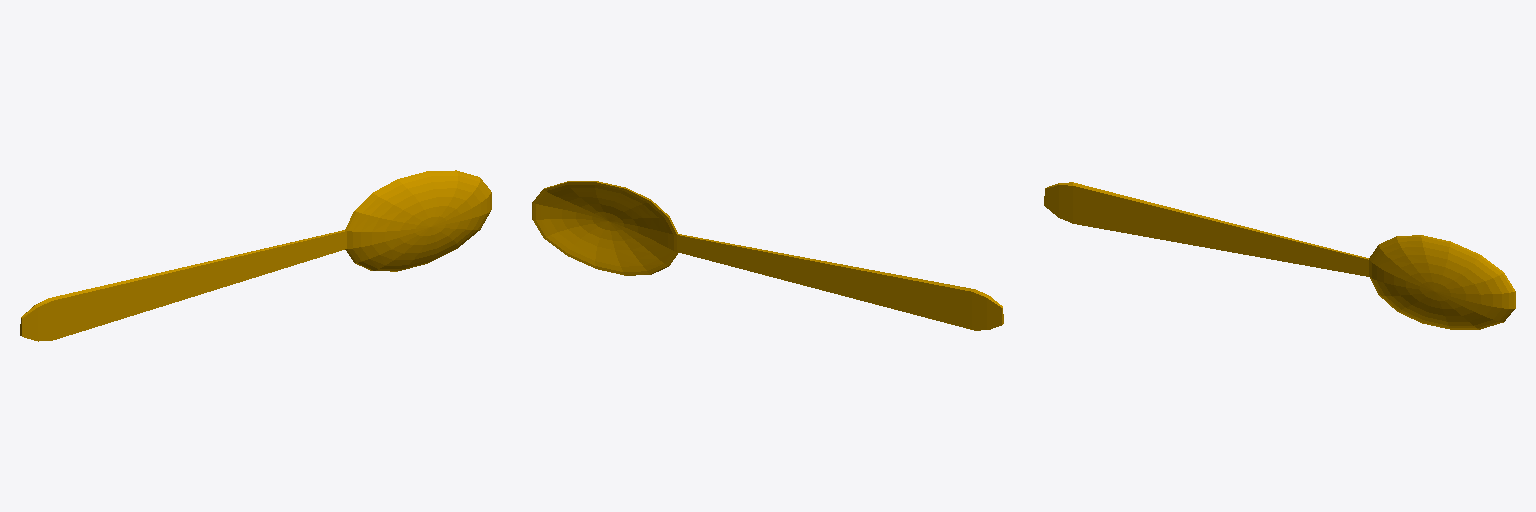
URDF robot description (fork):
<?xml version="1.0"?>
<robot name="fork">
  <link name="base_link">
    <visual>
      <origin xyz="0 0 0" rpy="0 3.14 0"/>
      <geometry>
        <mesh filename="spoon.obj" scale = "0.1 0.1 0.1"/>
      </geometry>
      <material name="brown">
        <color rgba="0.8 0.6 0 1.0" />
      </material>
    </visual>
    <collision>
      <origin xyz="0 0 0" rpy="0 3.14 0" />
      <geometry>
        <mesh filename="spoon.obj" scale = "0.1 0.1 0.1"/>
      </geometry>
    </collision>
   </link>
</robot>

--- Facts derived from the render (not from the file) ---
3 views of the same robot in one strip: view 1: azimuth 30°, elevation 25°; view 2: azimuth 150°, elevation 25°; view 3: azimuth 330°, elevation 25° (orthographic).
Robot: fork — 1 links, 0 joints (none); root link base_link; default pose: all joints at 0.
Visible links, largest first — view 1: base_link; view 2: base_link; view 3: base_link.
Link boxes in pixels (<box>): base_link: <box>20,170,491,341</box>; base_link: <box>532,181,1003,330</box>; base_link: <box>1044,182,1515,329</box>.
Bounding box of the posed robot: 0.1975 × 0.0094 × 0.0362 m (x, y, z).
1 mesh visuals loaded from 1 distinct referenced files (1 OBJ).